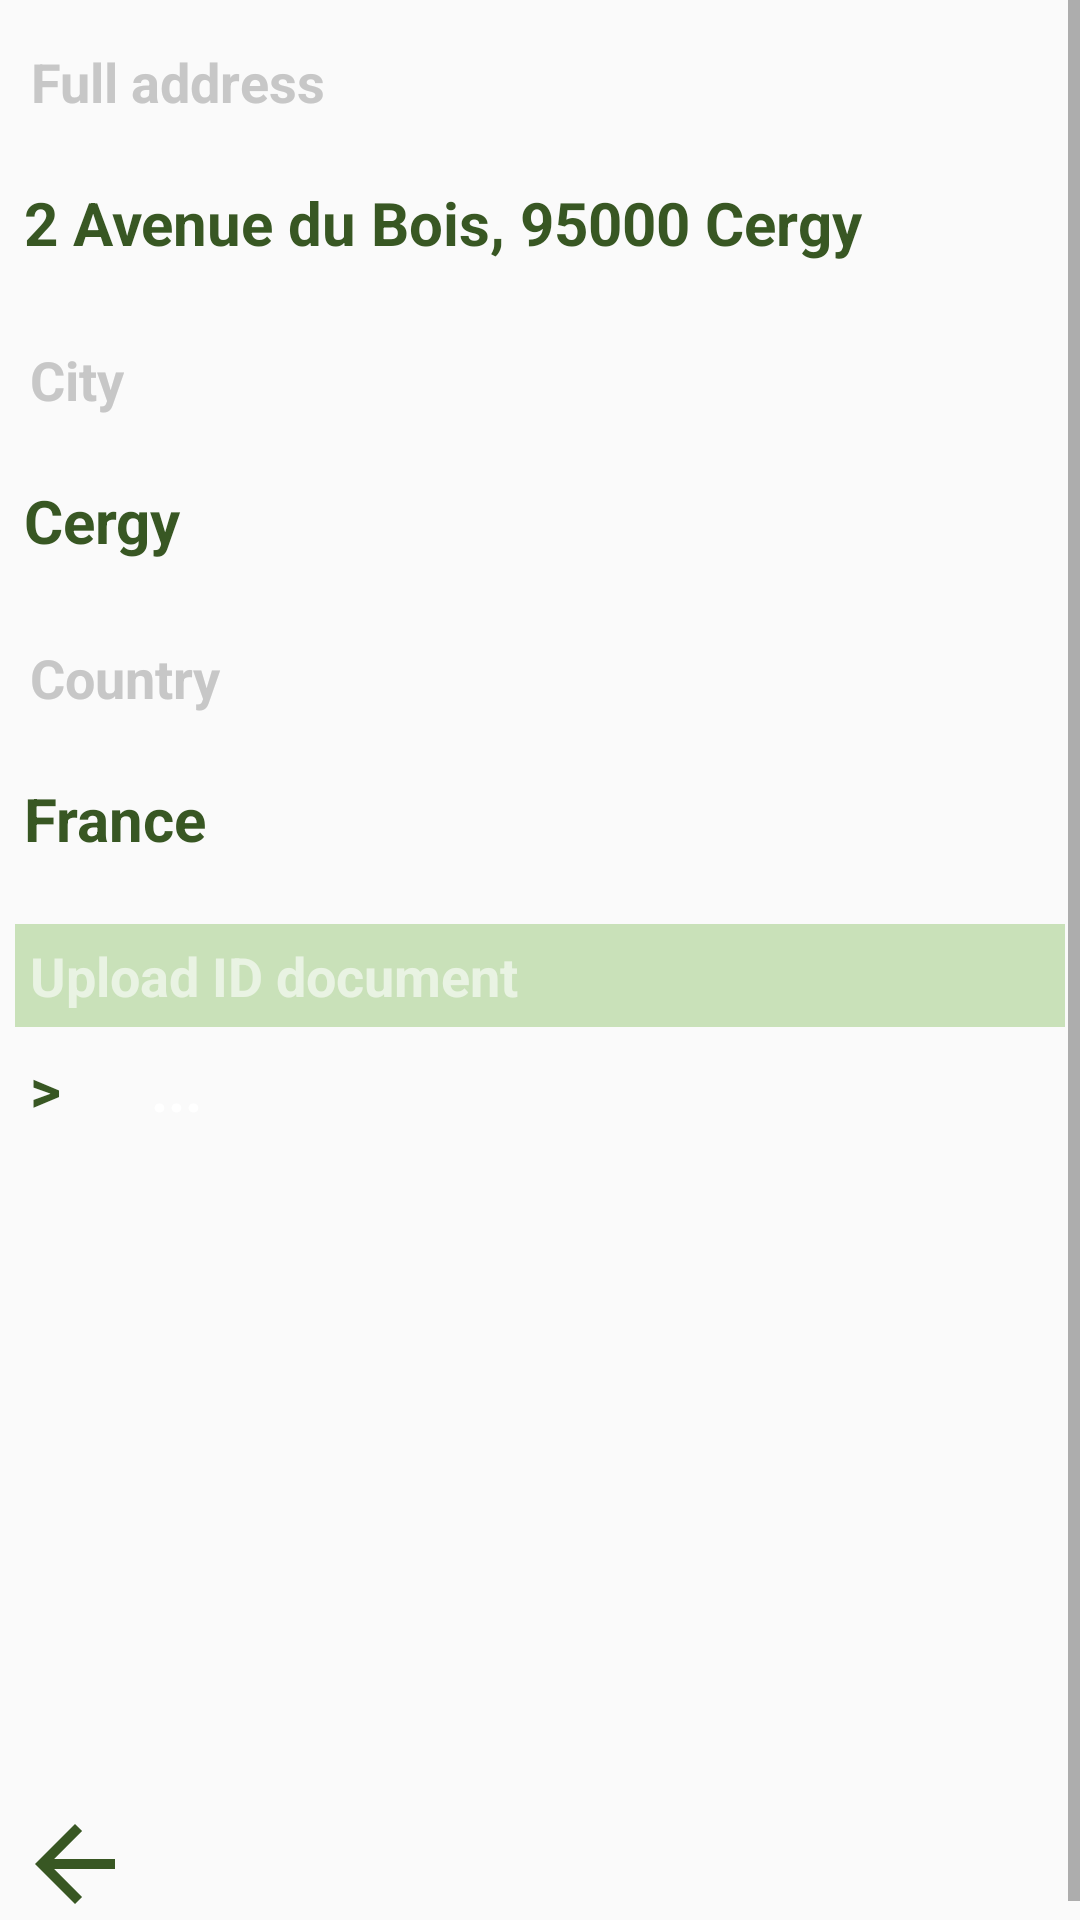

Screen size 1080 × 1920. Icon name, then its box in pixels as (x1, y1, x2, y2):
arrow previous: (35, 1824, 115, 1904)
